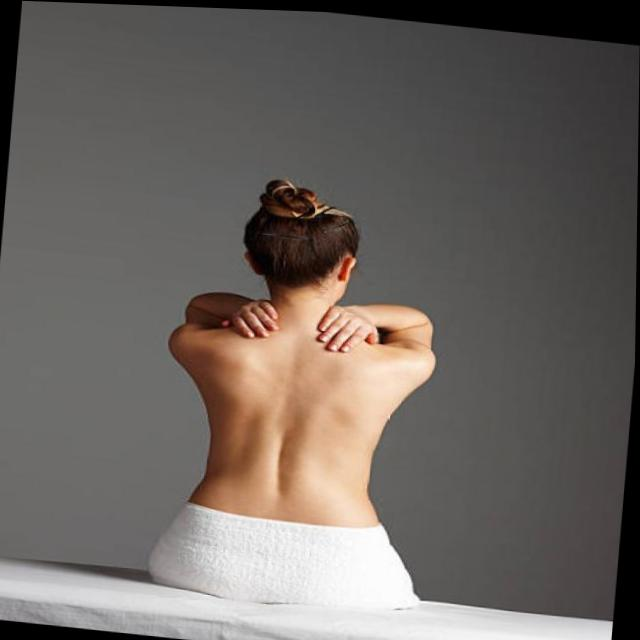no helmet: (228, 176, 369, 311)
